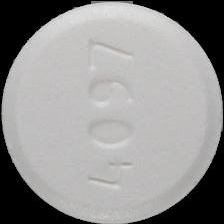42254-029: (0, 0, 224, 224)
